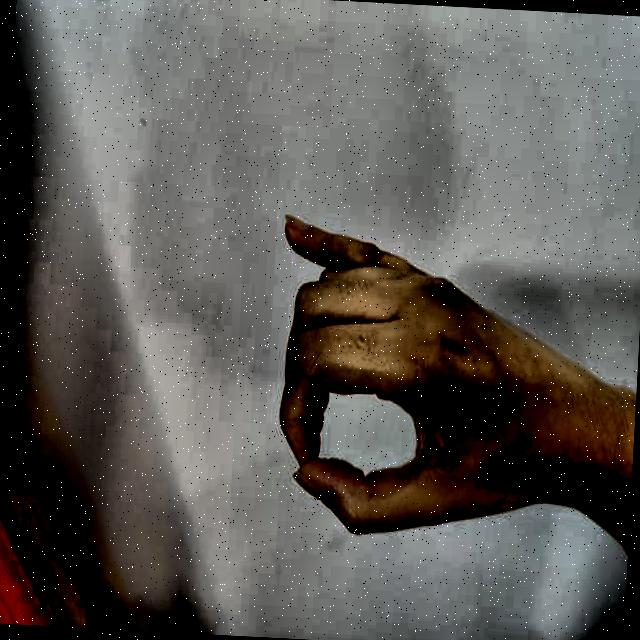Ou: (246, 182, 588, 578)
